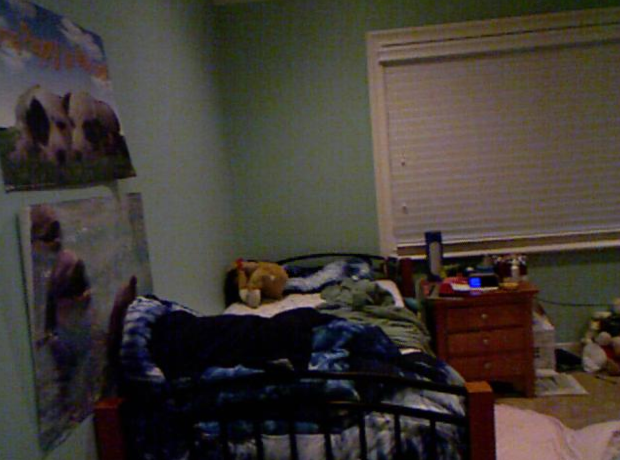cabinet: (427, 278, 538, 396)
cabinetDoor: (452, 305, 514, 328), (459, 359, 520, 379), (455, 334, 516, 351)
window: (378, 40, 620, 229)
